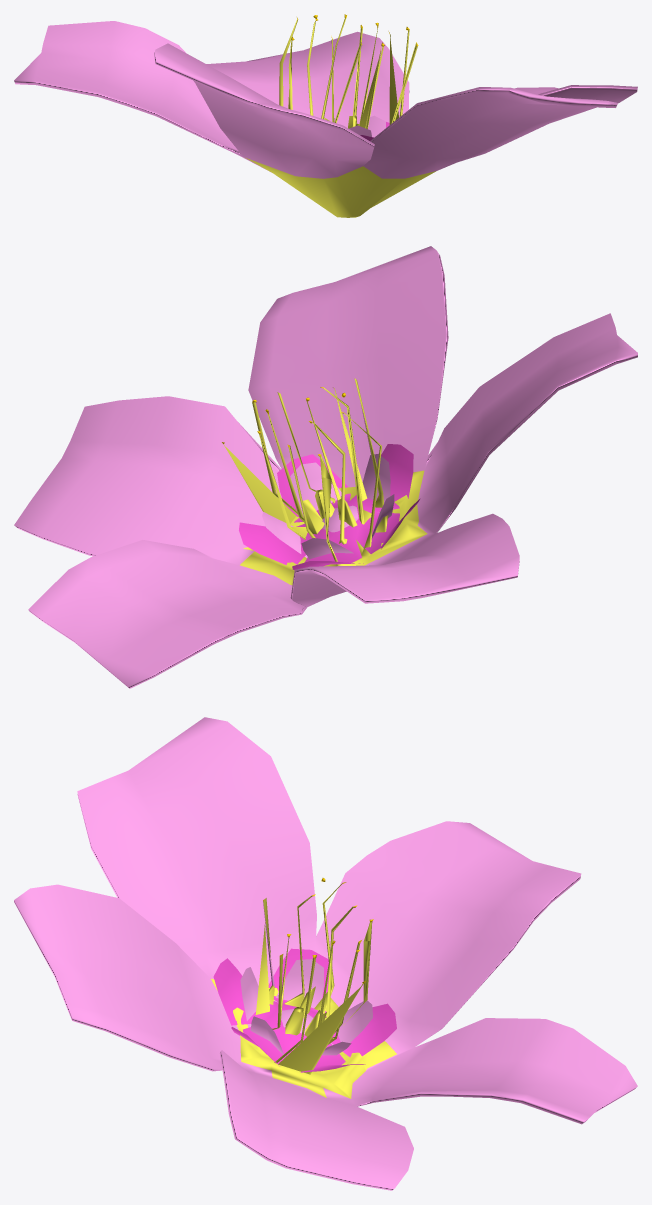
Rendered from cherry_blossom_v2.obj.
3 renders of one model, top to bottom at view 1: azimuth 30°, elevation 25°; view 2: azimuth 150°, elevation 25°; view 3: azimuth 270°, elevation 25°, orthographic. The views are drawn at different scales.
Visible parts, largest first — view 1: pSphere20; view 2: pSphere20; view 3: pSphere20.
Part boxes in pixels (bbox=[...]): pSphere20: bbox=[14, 14, 637, 217]; pSphere20: bbox=[14, 246, 637, 688]; pSphere20: bbox=[14, 717, 637, 1190].
Bounding box in the file's own units: 8.81 × 4.01 × 8.88.
